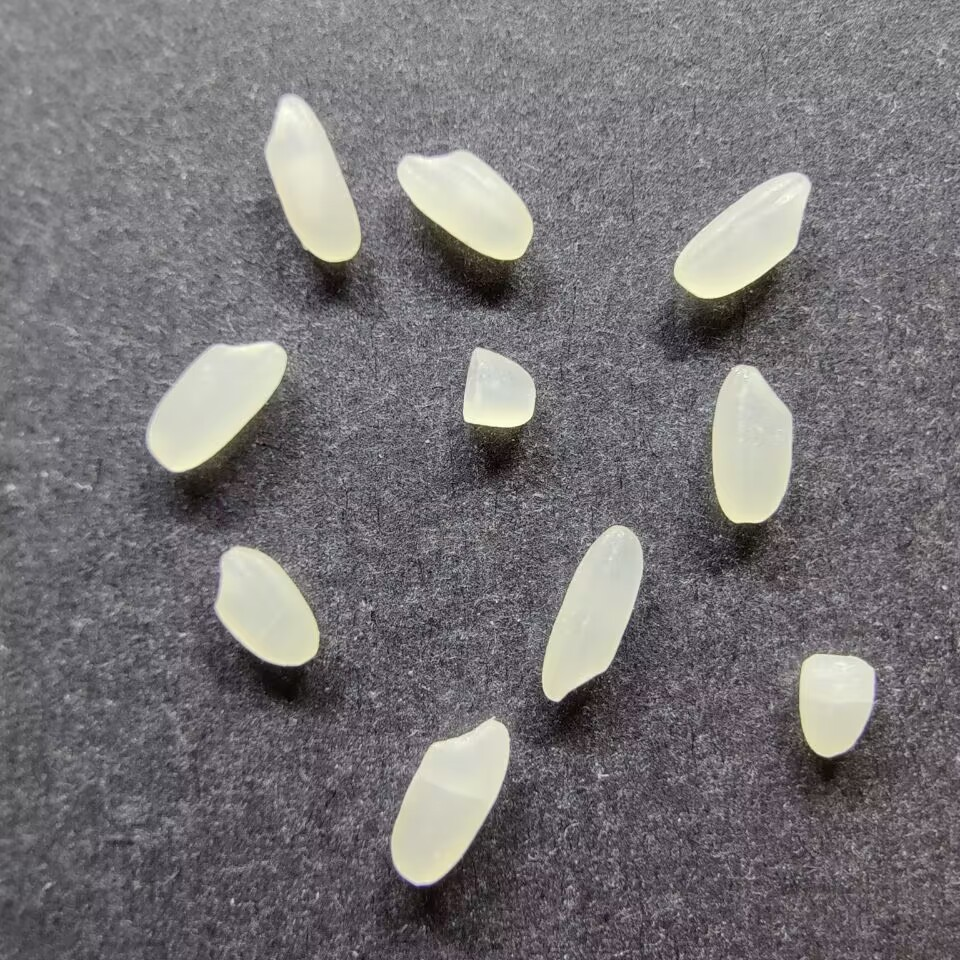broken: (796, 652, 877, 757), (458, 346, 537, 430)
rice: (388, 716, 512, 887), (143, 339, 290, 474), (539, 524, 646, 703), (671, 169, 811, 300), (261, 92, 363, 265), (394, 147, 534, 262), (709, 363, 794, 526), (211, 544, 323, 667)
